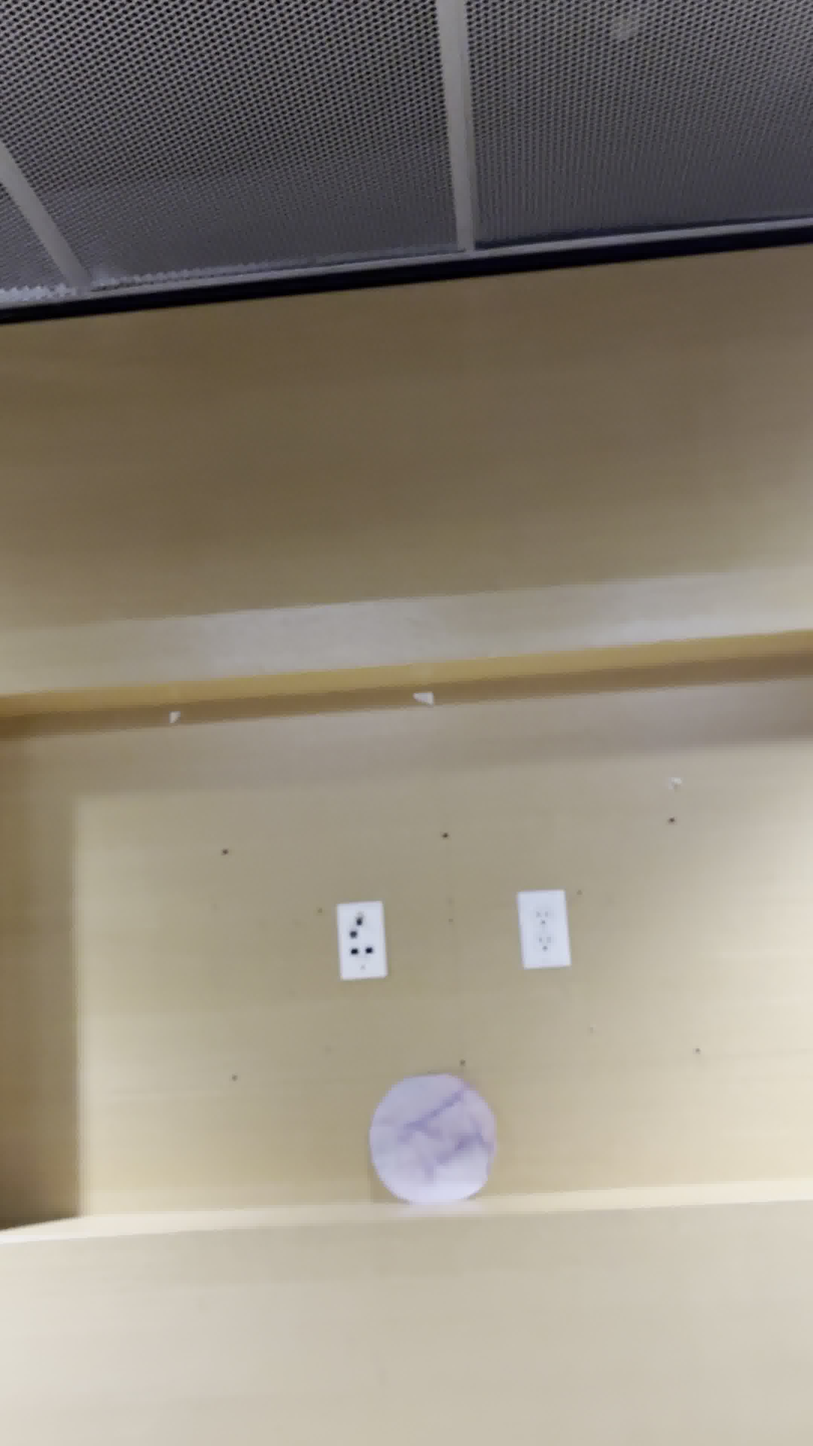Target: (365, 1079, 492, 1201)
